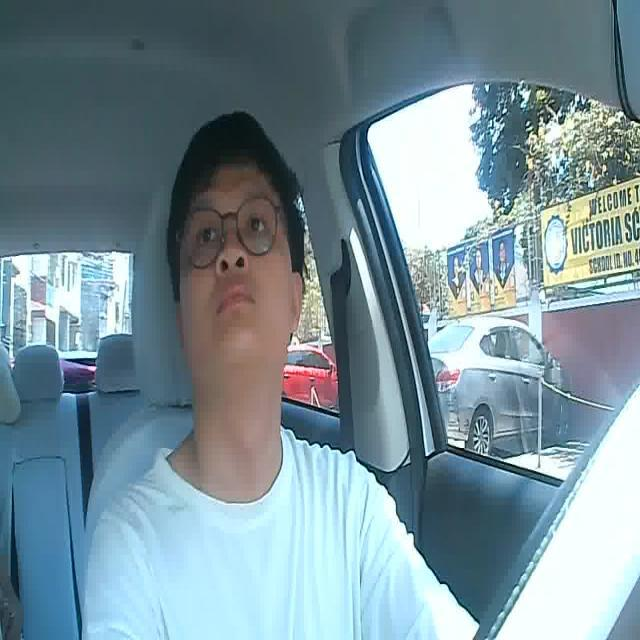Eye-Open: (196, 222, 218, 247), (247, 212, 266, 233)
Inattentive: (167, 112, 308, 377)
Normal: (216, 284, 256, 320)
